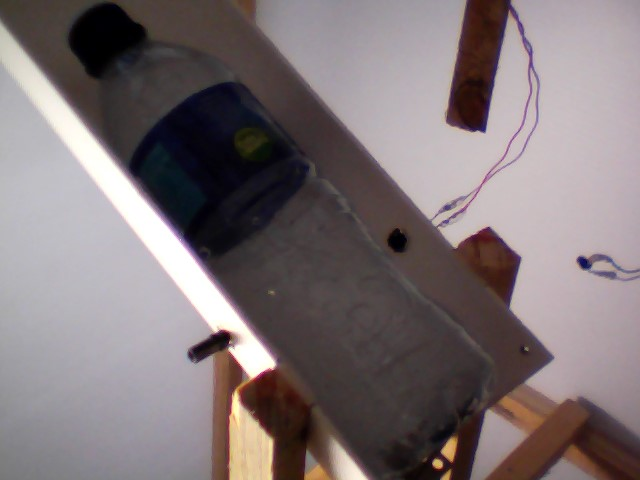plastico: (65, 1, 501, 479)
